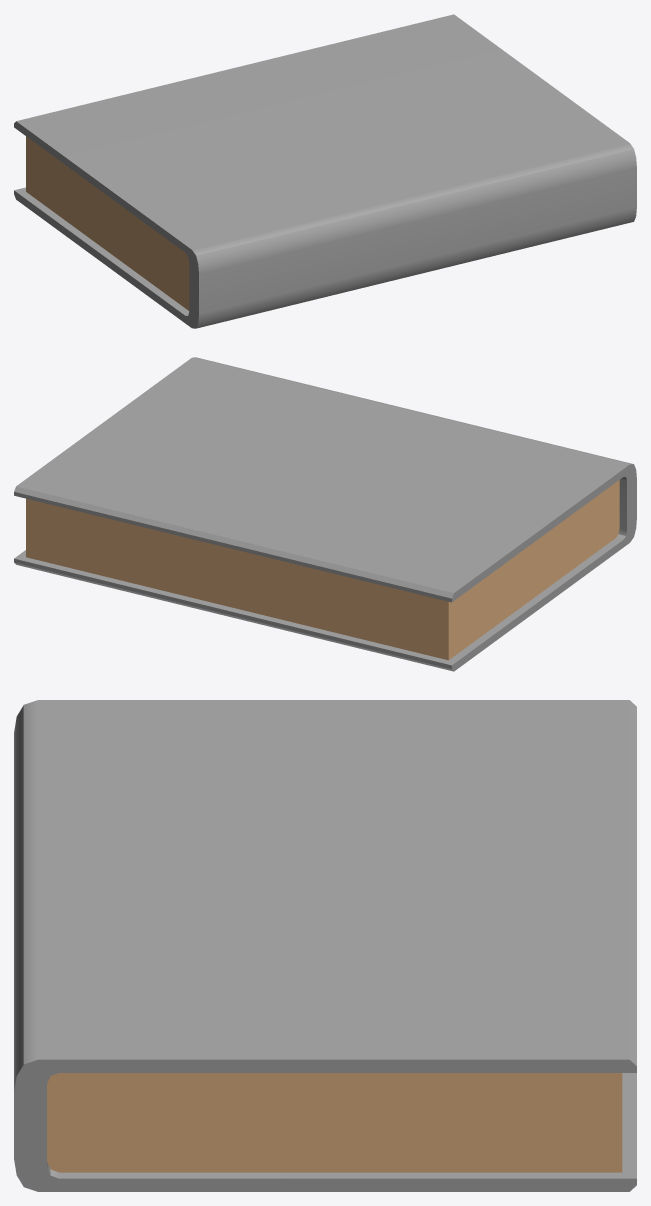
Rendered from Book.fbx.
3 renders of one model, top to bottom at view 1: azimuth 30°, elevation 25°; view 2: azimuth 150°, elevation 25°; view 3: azimuth 270°, elevation 25°, orthographic. The views are drawn at different scales.
Visible parts, largest first — view 1: pCube1; view 2: pCube1; view 3: pCube1.
Part boxes in pixels (x1,y1,x2,y2): pCube1: (14,14,636,328); pCube1: (14,357,636,671); pCube1: (14,700,636,1191).
Bounding box in the file's own units: 5.82 × 0.9958 × 4.26.
